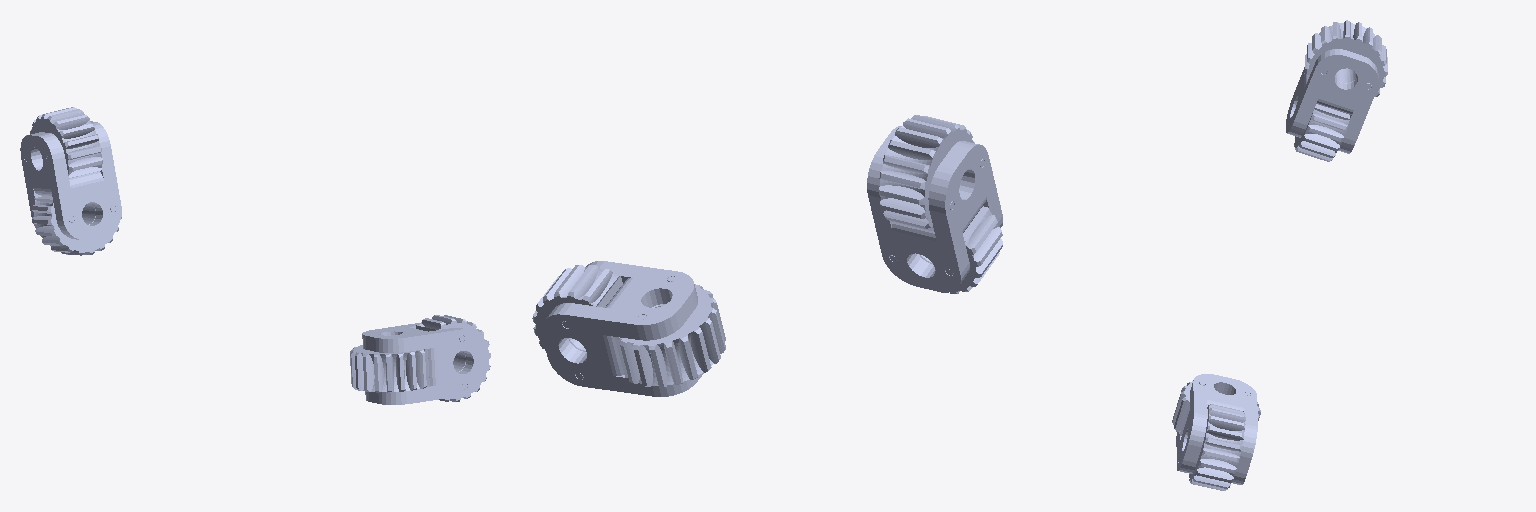
robot.urdf — HX01P1.2_URDF_2025_04_25_2:
<?xml version="1.0" encoding="utf-8"?>
<!-- This URDF was automatically created by SolidWorks to URDF Exporter! Originally created by [author] ([email redacted]) 
     Commit Version: 1.6.0-4-g7f85cfe  Build Version: 1.6.7995.38578
     For more information, please see http://wiki.ros.org/sw_urdf_exporter -->
<robot
  name="HX01P1.2_URDF_2025_04_25_2">
  <mujoco>
    <compiler meshdir="..\meshes" balanceinertia="false" discardvisual="false"/>
  </mujoco>
  <link
    name="base_link">
    <inertial>
      <origin
        xyz="-0.000143215433818468 0.0141338183242649 0.0442242892247222"
        rpy="0 0 0" />
      <mass
        value="0.411547465045794" />
      <inertia
        ixx="0.000457197745587714"
        ixy="-1.68236950016939E-05"
        ixz="-3.78293780992936E-06"
        iyy="0.000457189352520219"
        iyz="-0.000116176459874552"
        izz="0.000424192913814888" />
    </inertial>
    <visual>
      <origin
        xyz="0 0 0"
        rpy="0 0 0" />
      <geometry>
        <mesh
          filename="package://HX01P1.2_URDF_2025_04_25_2/meshes/base_link.STL" />
      </geometry>
      <material
        name="">
        <color
          rgba="0.101960784313725 0.101960784313725 0.101960784313725 1" />
      </material>
    </visual>
    <collision>
      <origin
        xyz="0 0 0"
        rpy="0 0 0" />
      <geometry>
        <mesh
          filename="package://HX01P1.2_URDF_2025_04_25_2/meshes/base_link.STL" />
      </geometry>
    </collision>
  </link>
  <link
    name="Finger1_MCP_Knuckel">
    <inertial>
      <origin
        xyz="0.0451686696386719 -0.000240164278909598 0.049868134342024"
        rpy="0 0 0" />
      <mass
        value="0.00436140273842147" />
      <inertia
        ixx="1.42159895349904E-07"
        ixy="-1.85049460397377E-10"
        ixz="1.64624719499002E-09"
        iyy="1.59844621377865E-07"
        iyz="1.67456695435997E-11"
        izz="1.596940532104E-07" />
    </inertial>
    <visual>
      <origin
        xyz="0 0 0"
        rpy="0 0 0" />
      <geometry>
        <mesh
          filename="package://HX01P1.2_URDF_2025_04_25_2/meshes/Finger1_MCP_Knuckel.STL" />
      </geometry>
      <material
        name="">
        <color
          rgba="0.792156862745098 0.819607843137255 0.933333333333333 1" />
      </material>
    </visual>
    <collision>
      <origin
        xyz="0 0 0"
        rpy="0 0 0" />
      <geometry>
        <mesh
          filename="package://HX01P1.2_URDF_2025_04_25_2/meshes/Finger1_MCP_Knuckel.STL" />
      </geometry>
    </collision>
  </link>
  <joint
    name="joint#1_finger1_abad"
    type="revolute">
    <origin
      xyz="0 0 0"
      rpy="0 0 0" />
    <parent
      link="base_link" />
    <child
      link="Finger1_MCP_Knuckel" />
    <axis
      xyz="-0.0871557427476608 -0.257512564618708 -0.962336300660845" />
    <limit
      lower="-2.1"
      upper="0"
      effort="0"
      velocity="0" />
  </joint>
  <link
    name="Finger1_Proxi_Phalanx">
    <inertial>
      <origin
        xyz="8.04256704605225E-06 -0.00154315690861875 0.0237707606585844"
        rpy="0 0 0" />
      <mass
        value="0.0202104726562832" />
      <inertia
        ixx="5.32127160366845E-06"
        ixy="2.07357209884356E-10"
        ixz="2.44269644006273E-09"
        iyy="4.93448483616243E-06"
        iyz="1.2903336924453E-06"
        izz="3.09191027862971E-06" />
    </inertial>
    <visual>
      <origin
        xyz="0 0 0"
        rpy="0 0 0" />
      <geometry>
        <mesh
          filename="package://HX01P1.2_URDF_2025_04_25_2/meshes/Finger1_Proxi_Phalanx.STL" />
      </geometry>
      <material
        name="">
        <color
          rgba="0.792156862745098 0.819607843137255 0.933333333333333 1" />
      </material>
    </visual>
    <collision>
      <origin
        xyz="0 0 0"
        rpy="0 0 0" />
      <geometry>
        <mesh
          filename="package://HX01P1.2_URDF_2025_04_25_2/meshes/Finger1_Proxi_Phalanx.STL" />
      </geometry>
    </collision>
  </link>
  <joint
    name="joint#2_finger1_flex1"
    type="revolute">
    <origin
      xyz="0.0516401551960459 -0.000170512707040913 0.0492639189361136"
      rpy="-1.66714855401138 -0.258319288163741 -1.53544339499688" />
    <parent
      link="Finger1_MCP_Knuckel" />
    <child
      link="Finger1_Proxi_Phalanx" />
    <axis
      xyz="1 0 0" />
    <limit
      lower="0"
      upper="2.1"
      effort="0"
      velocity="0" />
  </joint>
  <link
    name="Finger1_Dist_Phalanx">
    <inertial>
      <origin
        xyz="4.966808594771E-05 -0.010124035284097 0.0165770900777064"
        rpy="0 0 0" />
      <mass
        value="0.0176550868832926" />
      <inertia
        ixx="4.02684646627818E-06"
        ixy="-5.48100382854283E-09"
        ixz="-8.5196154081759E-09"
        iyy="2.76990689495446E-06"
        iyz="1.27524978556554E-06"
        izz="3.12075000495327E-06" />
    </inertial>
    <visual>
      <origin
        xyz="0 0 0"
        rpy="0 0 0" />
      <geometry>
        <mesh
          filename="package://HX01P1.2_URDF_2025_04_25_2/meshes/Finger1_Dist_Phalanx.STL" />
      </geometry>
      <material
        name="">
        <color
          rgba="0.792156862745098 0.819607843137255 0.933333333333333 1" />
      </material>
    </visual>
    <collision>
      <origin
        xyz="0 0 0"
        rpy="0 0 0" />
      <geometry>
        <mesh
          filename="package://HX01P1.2_URDF_2025_04_25_2/meshes/Finger1_Dist_Phalanx.STL" />
      </geometry>
    </collision>
  </link>
  <joint
    name="joint#3_finger1_flex2"
    type="revolute">
    <origin
      xyz="0 -0.0237880345493973 0.0617490033302251"
      rpy="0.447125638688997 0 0" />
    <parent
      link="Finger1_Proxi_Phalanx" />
    <child
      link="Finger1_Dist_Phalanx" />
    <axis
      xyz="-1 0 0" />
    <limit
      lower="0"
      upper="2.1"
      effort="0"
      velocity="0" />
  </joint>
  <link
    name="Finger2_Proxi_Phalanx">
    <inertial>
      <origin
        xyz="8.03941874993885E-06 0.00913751624479266 0.021998529836115"
        rpy="0 0 0" />
      <mass
        value="0.0202104889338019" />
      <inertia
        ixx="5.32127790828749E-06"
        ixy="1.26403190472971E-09"
        ixz="2.09720636677861E-09"
        iyy="5.59777233381563E-06"
        iyz="5.34443481552868E-08"
        izz="2.42862441395025E-06" />
    </inertial>
    <visual>
      <origin
        xyz="0 0 0"
        rpy="0 0 0" />
      <geometry>
        <mesh
          filename="package://HX01P1.2_URDF_2025_04_25_2/meshes/Finger2_Proxi_Phalanx.STL" />
      </geometry>
      <material
        name="">
        <color
          rgba="0.792156862745098 0.819607843137255 0.933333333333333 1" />
      </material>
    </visual>
    <collision>
      <origin
        xyz="0 0 0"
        rpy="0 0 0" />
      <geometry>
        <mesh
          filename="package://HX01P1.2_URDF_2025_04_25_2/meshes/Finger2_Proxi_Phalanx.STL" />
      </geometry>
    </collision>
  </link>
  <joint
    name="joint#4_finger2_flex1"
    type="revolute">
    <origin
      xyz="0.0311330246557196 0.0271075884946931 0.103293153855944"
      rpy="-0.350292973581635 0.0819914433473633 -0.0299139592583348" />
    <parent
      link="base_link" />
    <child
      link="Finger2_Proxi_Phalanx" />
    <axis
      xyz="1 0 0" />
    <limit
      lower="0"
      upper="2.1"
      effort="0"
      velocity="0" />
  </joint>
  <link
    name="Finger2_Dist_Phalanx">
    <inertial>
      <origin
        xyz="4.96596942105541E-05 0.00714087338374853 0.0180639919901679"
        rpy="0 0 0" />
      <mass
        value="0.0176551623115758" />
      <inertia
        ixx="4.02689478826306E-06"
        ixy="-1.01044561746007E-08"
        ixz="-7.45981723448176E-10"
        iyy="4.21968522379183E-06"
        iyz="-1.82116754516754E-07"
        izz="1.67102249222128E-06" />
    </inertial>
    <visual>
      <origin
        xyz="0 0 0"
        rpy="0 0 0" />
      <geometry>
        <mesh
          filename="package://HX01P1.2_URDF_2025_04_25_2/meshes/Finger2_Dist_Phalanx.STL" />
      </geometry>
      <material
        name="">
        <color
          rgba="0.792156862745098 0.819607843137255 0.933333333333333 1" />
      </material>
    </visual>
    <collision>
      <origin
        xyz="0 0 0"
        rpy="0 0 0" />
      <geometry>
        <mesh
          filename="package://HX01P1.2_URDF_2025_04_25_2/meshes/Finger2_Dist_Phalanx.STL" />
      </geometry>
    </collision>
  </link>
  <joint
    name="joint#5_finger2_flex2"
    type="revolute">
    <origin
      xyz="0 0.00600000000000033 0.0659"
      rpy="0 0 0" />
    <parent
      link="Finger2_Proxi_Phalanx" />
    <child
      link="Finger2_Dist_Phalanx" />
    <axis
      xyz="-1 0 0" />
    <limit
      lower="0"
      upper="2.1"
      effort="0"
      velocity="0" />
  </joint>
  <link
    name="Finger3_MCP_Knuckel">
    <inertial>
      <origin
        xyz="4.95757603306141E-07 4.95757603158689E-07 0.00650000000000001"
        rpy="0 0 0" />
      <mass
        value="0.00436140331617378" />
      <inertia
        ixx="1.59847453396862E-07"
        ixy="-7.49873788616844E-13"
        ixz="-5.07470404925939E-12"
        iyy="1.59847453396862E-07"
        iyz="5.07470404926321E-12"
        izz="1.42005296546262E-07" />
    </inertial>
    <visual>
      <origin
        xyz="0 0 0"
        rpy="0 0 0" />
      <geometry>
        <mesh
          filename="package://HX01P1.2_URDF_2025_04_25_2/meshes/Finger3_MCP_Knuckel.STL" />
      </geometry>
      <material
        name="">
        <color
          rgba="0.792156862745098 0.819607843137255 0.933333333333333 1" />
      </material>
    </visual>
    <collision>
      <origin
        xyz="0 0 0"
        rpy="0 0 0" />
      <geometry>
        <mesh
          filename="package://HX01P1.2_URDF_2025_04_25_2/meshes/Finger3_MCP_Knuckel.STL" />
      </geometry>
    </collision>
  </link>
  <joint
    name="joint#6_finger3_abad"
    type="revolute">
    <origin
      xyz="-0.024 0.0226782460002121 0.091123635369327"
      rpy="-0.349065850398867 0 0" />
    <parent
      link="base_link" />
    <child
      link="Finger3_MCP_Knuckel" />
    <axis
      xyz="0 1 0" />
    <limit
      lower="-0.79"
      upper="0.26"
      effort="0"
      velocity="0" />
  </joint>
  <link
    name="Finger3_Proxi_Phalanx">
    <inertial>
      <origin
        xyz="8.04117973510904E-06 0.0100165249953892 0.0216124776566758"
        rpy="0 0 0" />
      <mass
        value="0.0202104720704891" />
      <inertia
        ixx="5.32127708117865E-06"
        ixy="1.34776056207345E-09"
        ixz="2.04474931025196E-09"
        iyy="5.59692981103583E-06"
        iyz="-7.43265082311261E-08"
        izz="2.42946644189107E-06" />
    </inertial>
    <visual>
      <origin
        xyz="0 0 0"
        rpy="0 0 0" />
      <geometry>
        <mesh
          filename="package://HX01P1.2_URDF_2025_04_25_2/meshes/Finger3_Proxi_Phalanx.STL" />
      </geometry>
      <material
        name="">
        <color
          rgba="0.792156862745098 0.819607843137255 0.933333333333333 1" />
      </material>
    </visual>
    <collision>
      <origin
        xyz="0 0 0"
        rpy="0 0 0" />
      <geometry>
        <mesh
          filename="package://HX01P1.2_URDF_2025_04_25_2/meshes/Finger3_Proxi_Phalanx.STL" />
      </geometry>
    </collision>
  </link>
  <joint
    name="joint#7_finger3_flex1"
    type="revolute">
    <origin
      xyz="0 0 0.013"
      rpy="0 0 0" />
    <parent
      link="Finger3_MCP_Knuckel" />
    <child
      link="Finger3_Proxi_Phalanx" />
    <axis
      xyz="1 0 0" />
    <limit
      lower="0"
      upper="2.1"
      effort="0"
      velocity="0" />
  </joint>
  <link
    name="Finger3_Dist_Phalanx">
    <inertial>
      <origin
        xyz="4.96543147663828E-05 0.006407184788708 0.0183370776542785"
        rpy="0 0 0" />
      <mass
        value="0.017655175308132" />
      <inertia
        ixx="4.02689920264773E-06"
        ixy="-1.00663492422049E-08"
        ixz="-1.15336444118468E-09"
        iyy="4.23021615454477E-06"
        iyz="-7.89110412665251E-08"
        izz="1.66049607192739E-06" />
    </inertial>
    <visual>
      <origin
        xyz="0 0 0"
        rpy="0 0 0" />
      <geometry>
        <mesh
          filename="package://HX01P1.2_URDF_2025_04_25_2/meshes/Finger3_Dist_Phalanx.STL" />
      </geometry>
      <material
        name="">
        <color
          rgba="0.792156862745098 0.819607843137255 0.933333333333333 1" />
      </material>
    </visual>
    <collision>
      <origin
        xyz="0 0 0"
        rpy="0 0 0" />
      <geometry>
        <mesh
          filename="package://HX01P1.2_URDF_2025_04_25_2/meshes/Finger3_Dist_Phalanx.STL" />
      </geometry>
    </collision>
  </link>
  <joint
    name="joint#8_finger3_flex2"
    type="revolute">
    <origin
      xyz="0 0.00865057582363768 0.0656047066750251"
      rpy="-0.0403060398718764 0 0" />
    <parent
      link="Finger3_Proxi_Phalanx" />
    <child
      link="Finger3_Dist_Phalanx" />
    <axis
      xyz="-1 0 0" />
    <limit
      lower="0"
      upper="2.1"
      effort="0"
      velocity="0" />
  </joint>
</robot>

--- Render facts (derived) ---
The picture shows the robot from 3 angles, left to right: view 1: azimuth 30°, elevation 25°; view 2: azimuth 150°, elevation 25°; view 3: azimuth 270°, elevation 25°; orthographic projection.
Robot: HX01P1.2_URDF_2025_04_25_2 — 9 links, 8 joints (8 revolute); root link base_link; default pose: all joints at 0.
Links seen in each view (by area): view 1: Finger3_MCP_Knuckel, Finger1_MCP_Knuckel; view 2: Finger1_MCP_Knuckel, Finger3_MCP_Knuckel; view 3: Finger3_MCP_Knuckel, Finger1_MCP_Knuckel.
Link boxes in pixels (left/top/right/bottom): Finger3_MCP_Knuckel: left=20, top=107, right=121, bottom=255; Finger1_MCP_Knuckel: left=350, top=315, right=490, bottom=404; Finger1_MCP_Knuckel: left=532, top=261, right=725, bottom=396; Finger3_MCP_Knuckel: left=867, top=115, right=1002, bottom=293; Finger3_MCP_Knuckel: left=1286, top=20, right=1387, bottom=161; Finger1_MCP_Knuckel: left=1172, top=374, right=1260, bottom=490.
Bounding box of the posed robot: 0.0934 × 0.0457 × 0.0723 m (x, y, z).
2 mesh visuals loaded from 9 distinct referenced files (2 binary STL); not drawn: 7 (reference not matched to a file when rendering).